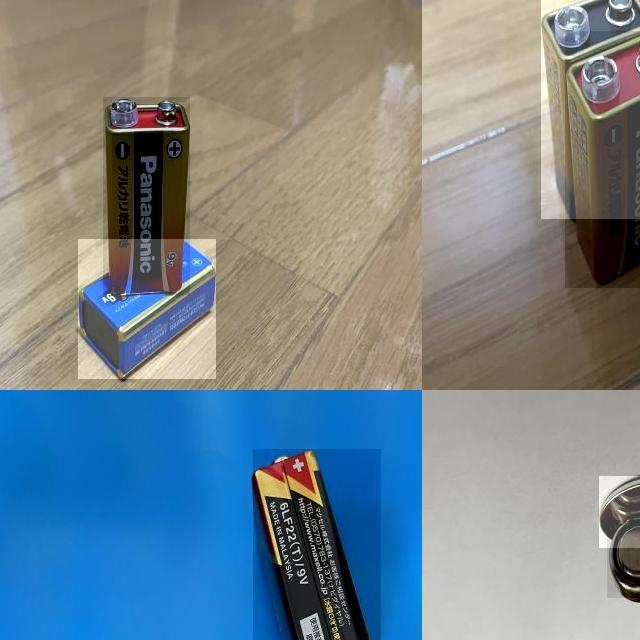9V: (252, 449, 381, 640), (541, 0, 640, 219), (564, 30, 640, 288), (78, 240, 216, 380), (103, 98, 190, 296)
